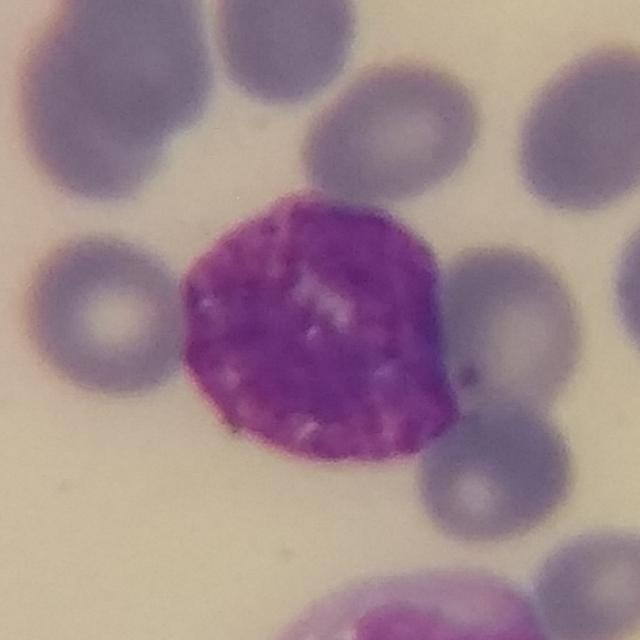Basophil: (167, 179, 462, 488)
Neutrophil: (248, 555, 549, 640)
RBC: (6, 223, 197, 403), (293, 51, 492, 207), (406, 388, 587, 554), (430, 235, 594, 414), (9, 30, 177, 201), (504, 35, 640, 222), (48, 0, 211, 143), (202, 0, 366, 112), (525, 518, 639, 640), (603, 194, 640, 382)
